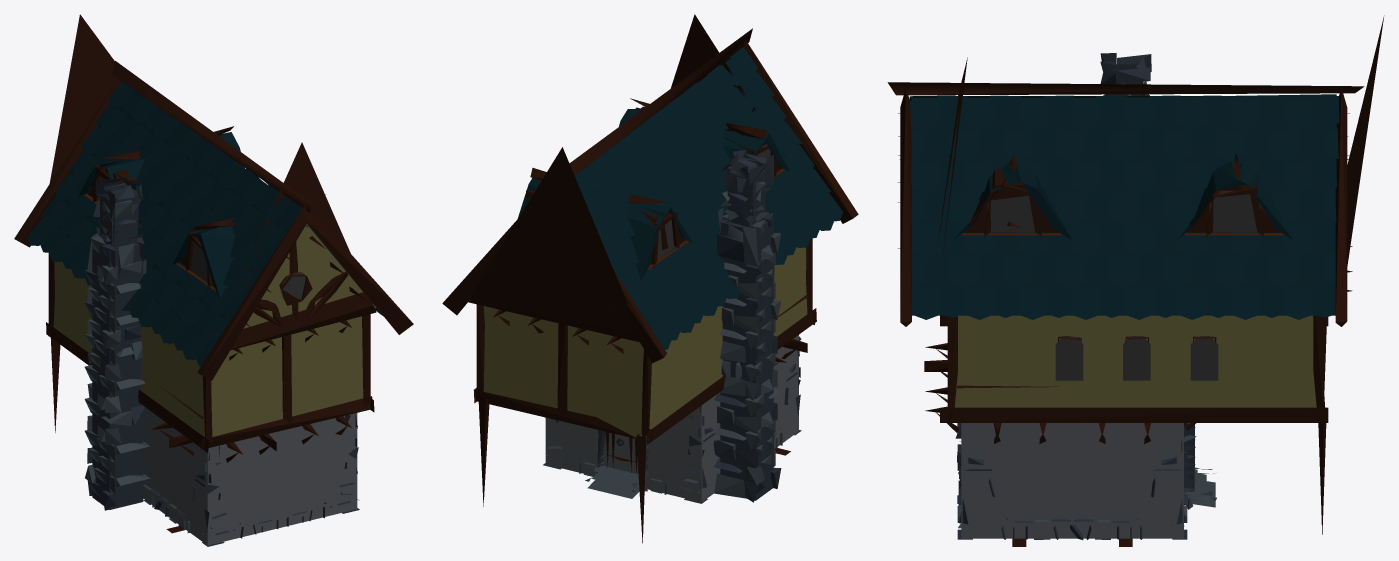
Rendered from House_2.fbx.
3 renders of one model, left to right at view 1: azimuth 30°, elevation 25°; view 2: azimuth 150°, elevation 25°; view 3: azimuth 270°, elevation 25°, orthographic. The views are drawn at different scales.
Parts seen in each view (by area): view 1: High_House_2, Low_House_2; view 2: High_House_2, Low_House_2; view 3: High_House_2, Low_House_2.
Boxes of the visible parts, x1,y1,x2,y2 form: High_House_2: (14,61,413,546); Low_House_2: (49,14,373,348); High_House_2: (442,28,858,543); Low_House_2: (467,14,785,331); High_House_2: (887,53,1364,546); Low_House_2: (935,15,1384,265).
Size of the model in its own units: 220 by 367 by 355.
